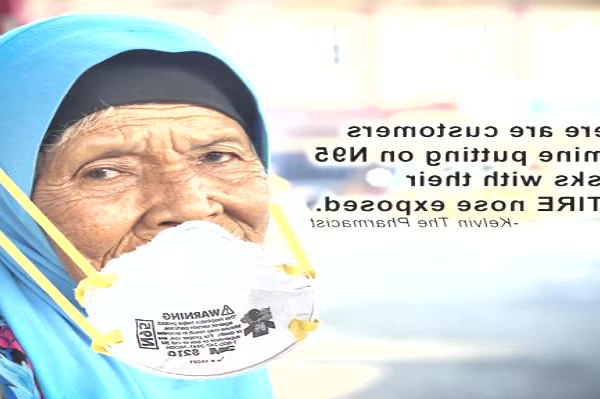mask_weared_incorrect: (42, 128, 273, 307)
